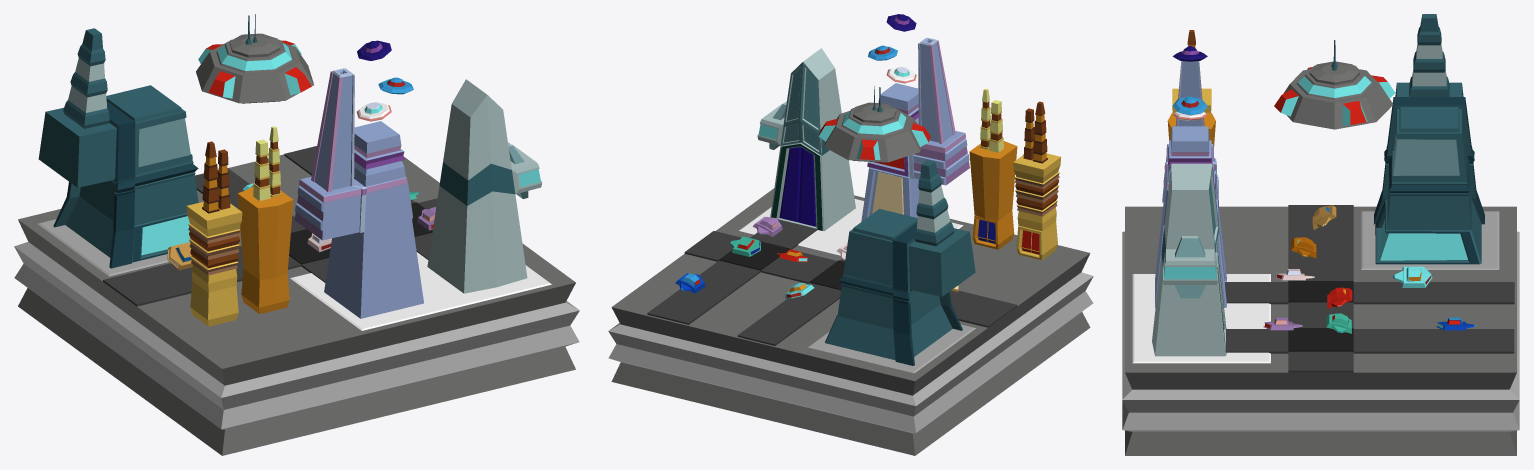
File: uploads_files_4017729_Not+Human+world+.fbx
3 renders of one model, left to right at view 1: azimuth 30°, elevation 25°; view 2: azimuth 150°, elevation 25°; view 3: azimuth 270°, elevation 25°, orthographic. The views are drawn at different scales.
Parts seen in each view (by area): view 1: Cube, Cube.015, Cube.014, Cube.005; view 2: Cube, Cube.015, Cube.014, Cube.005, Cube.017, Cube.016, Cube.018; view 3: Cube, Cube.005, Cube.010, Cube.002, Cube.014, Cube.012, Cube.007, Cube.009, Cube.013, Cube.015.
Part boxes in pixels (x1,y1,x2,y2): Cube: (14, 28, 579, 455); Cube.015: (237, 126, 293, 313); Cube.014: (186, 141, 242, 326); Cube.005: (196, 14, 313, 103); Cube: (608, 37, 1093, 455); Cube.015: (969, 88, 1017, 249); Cube.014: (1013, 101, 1061, 260); Cube.005: (818, 86, 930, 162); Cube.017: (779, 147, 801, 222); Cube.016: (798, 148, 816, 226); Cube.018: (872, 172, 903, 214); Cube: (1122, 14, 1519, 455); Cube.005: (1274, 40, 1395, 129); Cube.010: (1393, 266, 1432, 287); Cube.002: (1172, 96, 1207, 115); Cube.014: (1172, 30, 1211, 112); Cube.012: (1291, 237, 1316, 258); Cube.007: (1326, 313, 1351, 333); Cube.009: (1327, 287, 1352, 308); Cube.013: (1312, 205, 1336, 229); Cube.015: (1167, 112, 1215, 148).
Bounding box in the file's own units: 204 × 199 × 203.
